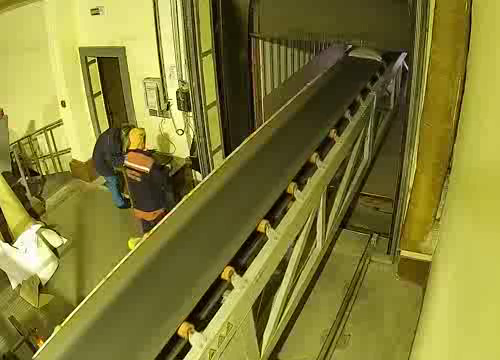bag: (347, 47, 385, 63)
